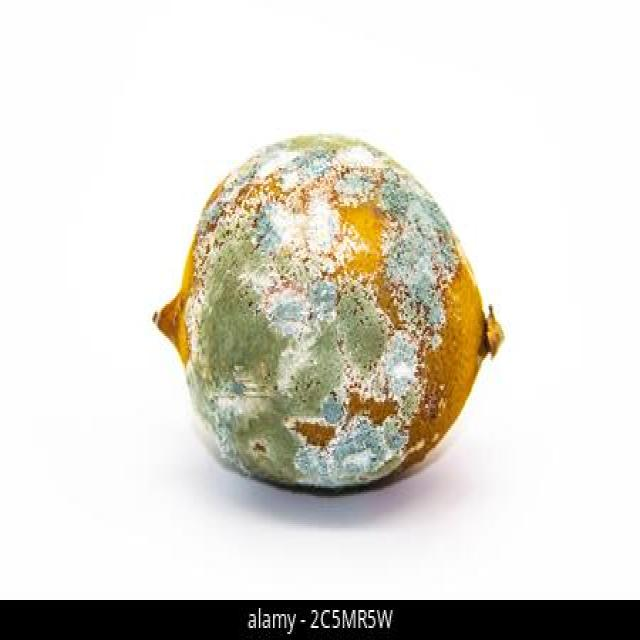Rotten: (149, 132, 506, 496)
